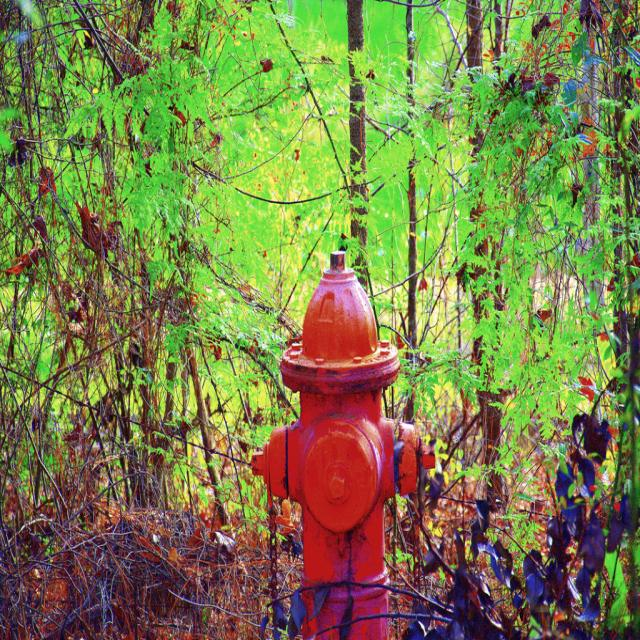fire_hydrant: (251, 255, 436, 640)
